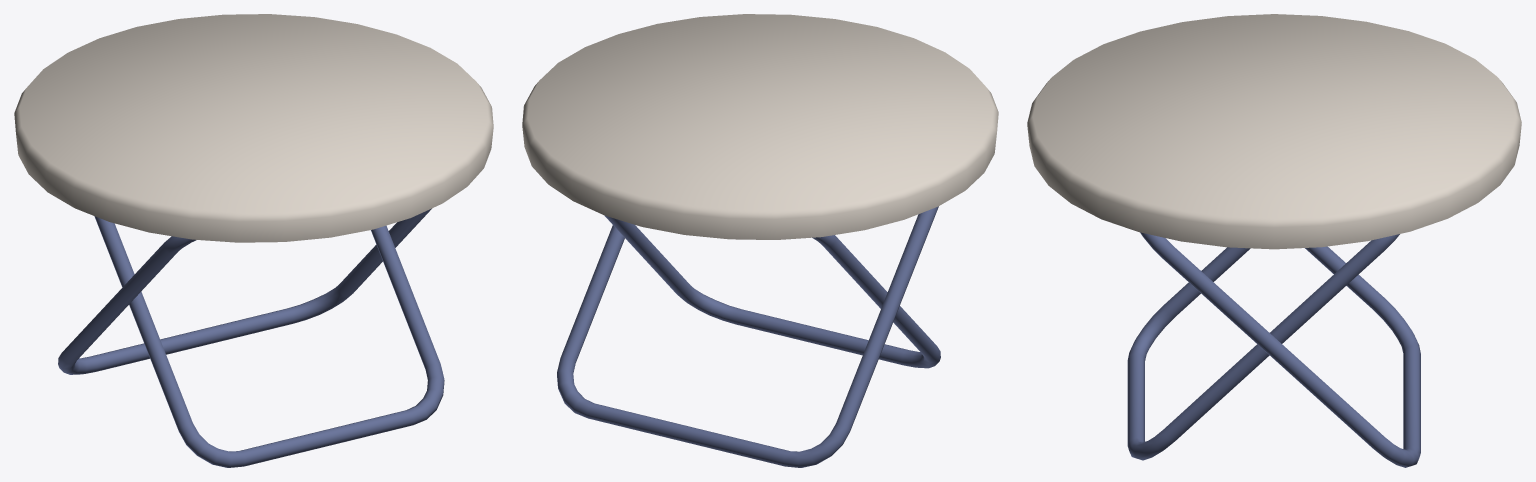
File: BeachTable_01.fbx
The picture shows the model from 3 angles, left to right: view 1: azimuth 30°, elevation 25°; view 2: azimuth 150°, elevation 25°; view 3: azimuth 270°, elevation 25°; orthographic projection. The views are drawn at different scales.
Parts seen in each view (by area): view 1: BeachTable_01; view 2: BeachTable_01; view 3: BeachTable_01.
Part boxes in pixels (x1,y1,x2,y2): BeachTable_01: (14, 14, 493, 467); BeachTable_01: (522, 14, 998, 467); BeachTable_01: (1027, 14, 1521, 467).
Bounding box in the file's own units: 5.14 × 3.37 × 5.14.
